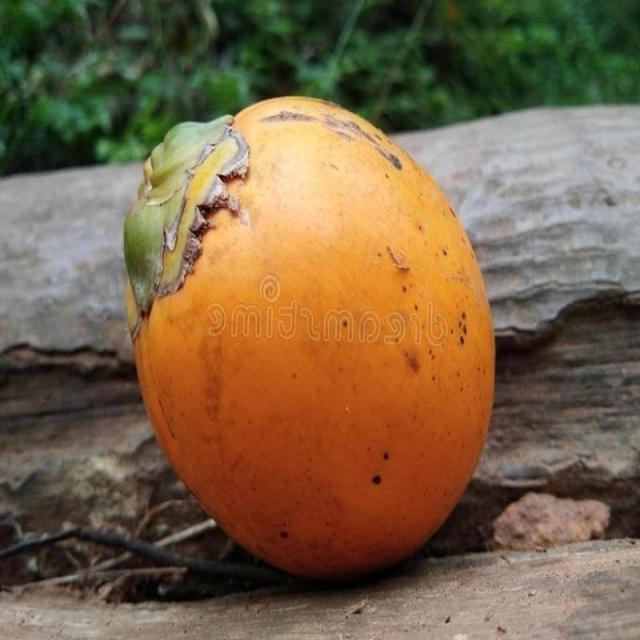good: (123, 95, 496, 587)
